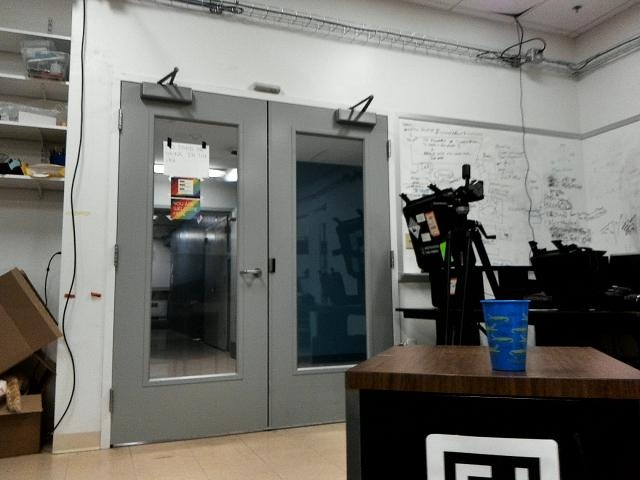water_cup: (476, 293, 535, 375)
